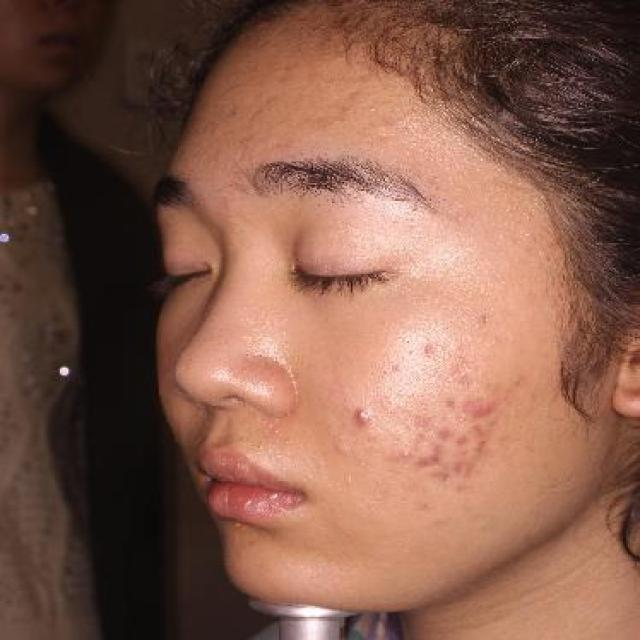Acne: (456, 378, 506, 434), (412, 441, 446, 466), (347, 400, 376, 429)
